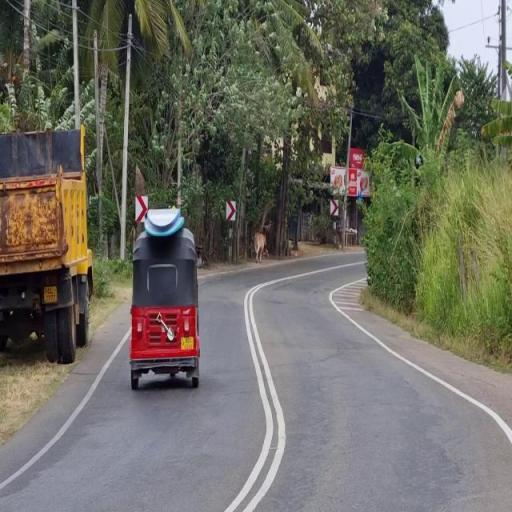double_white_line: (326, 286, 512, 442), (0, 330, 127, 492), (236, 278, 290, 510)
